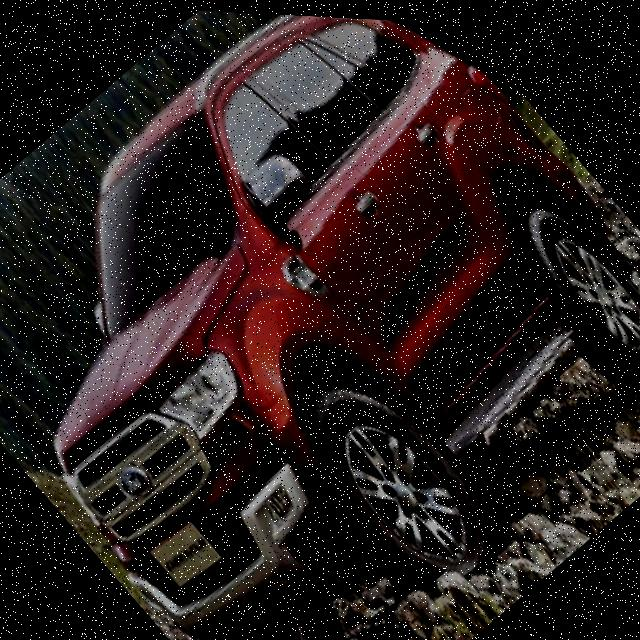license_plate: (147, 514, 220, 588)
